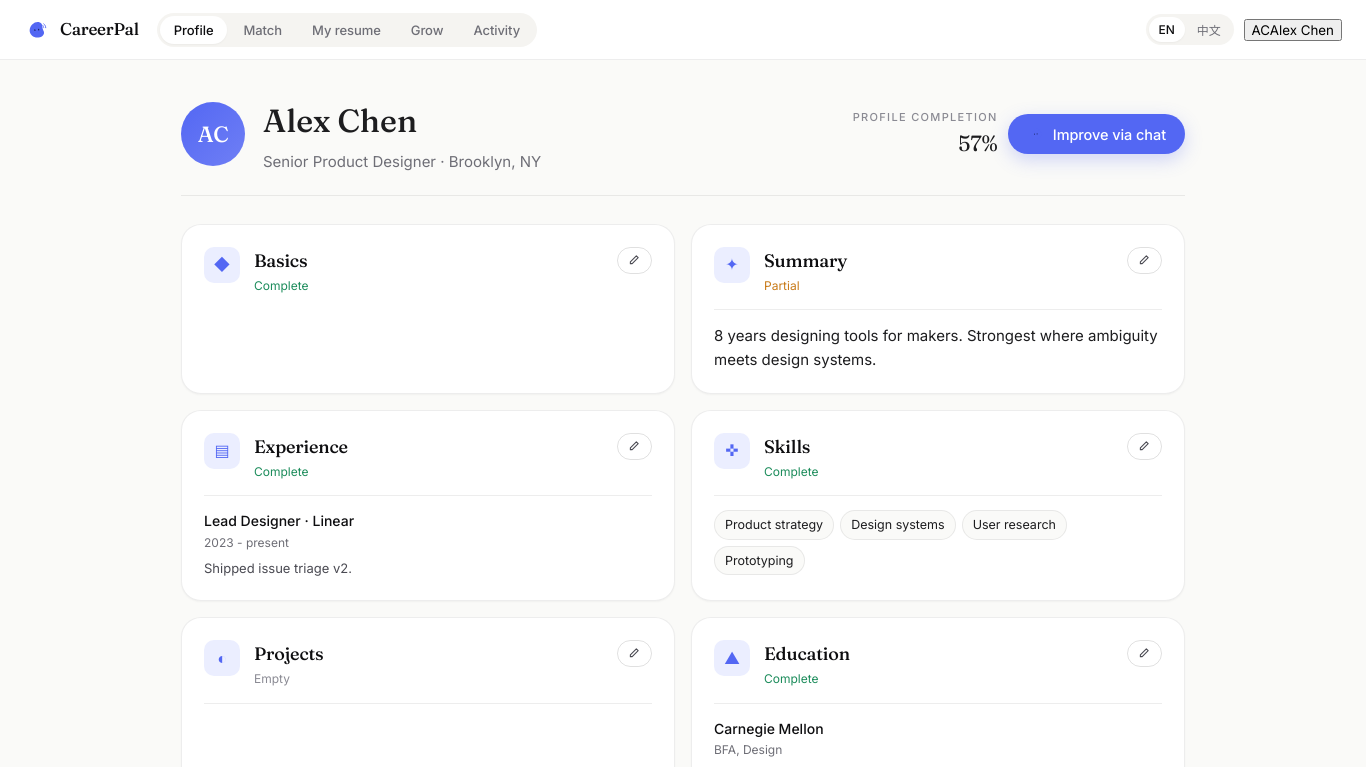
Test: Workspace › does not show persisted messages from a different focused section
The width and height of the screenshot is (1366, 767).
Click the button named "edit" at point(1144, 260), box [1127,247,1162,274]
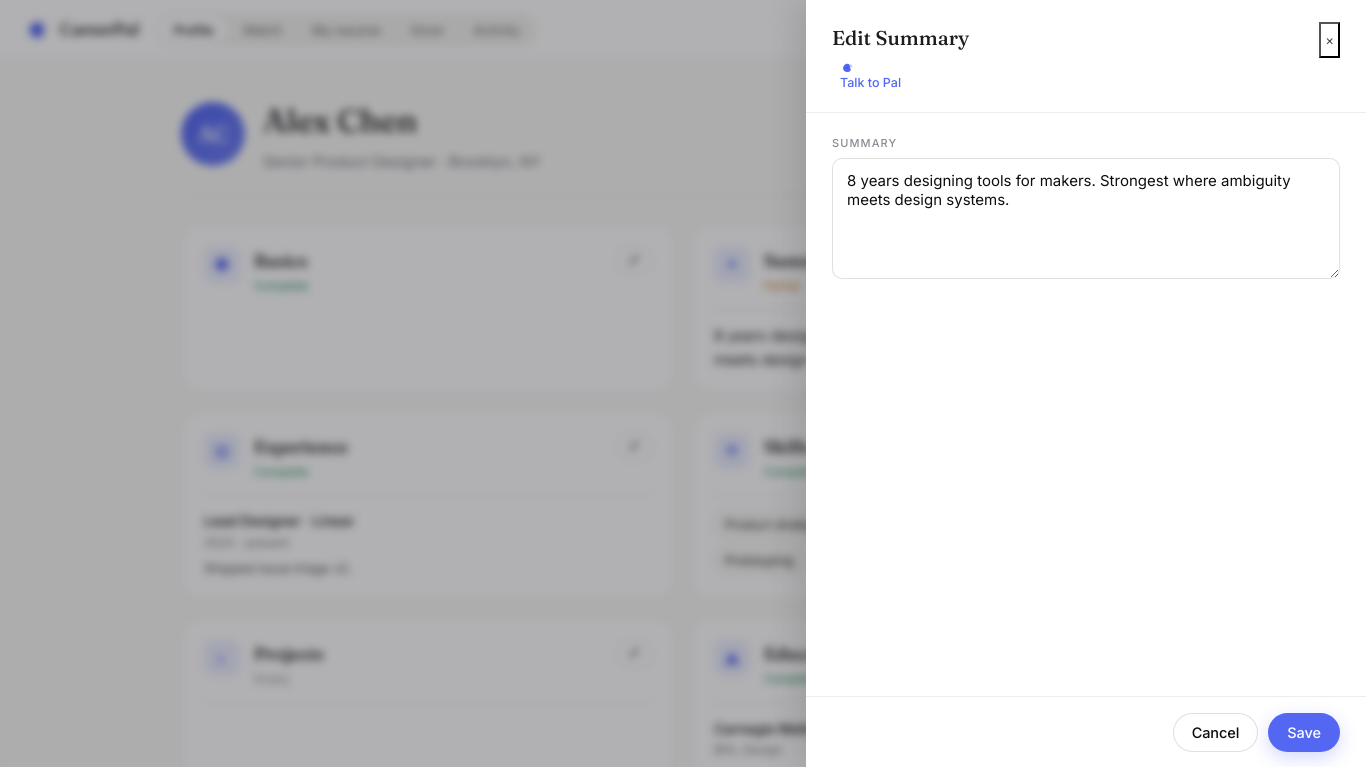
Click the button "Talk to Pal" at point(870, 76), box [832,57,909,94]
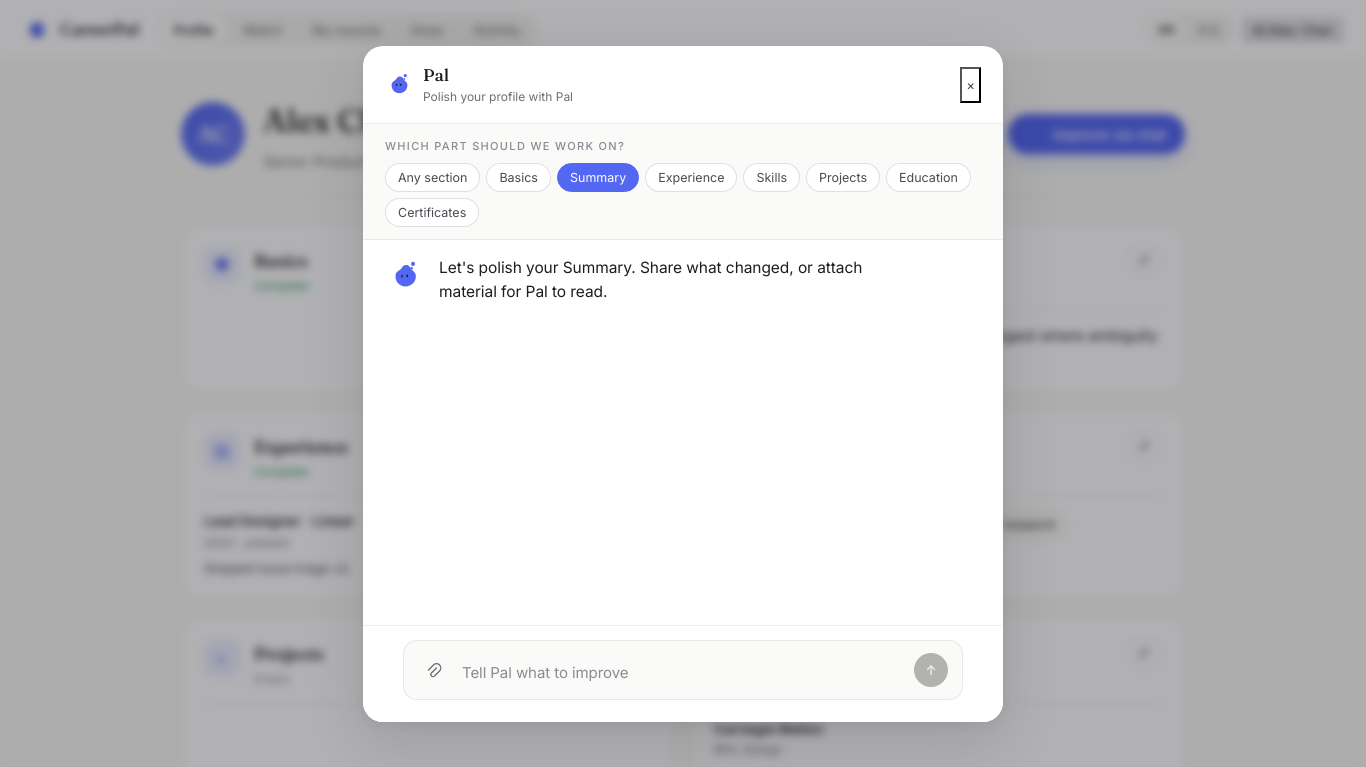
Expected: the text "Let's polish your Summary" is shown, [439,258,862,301]
